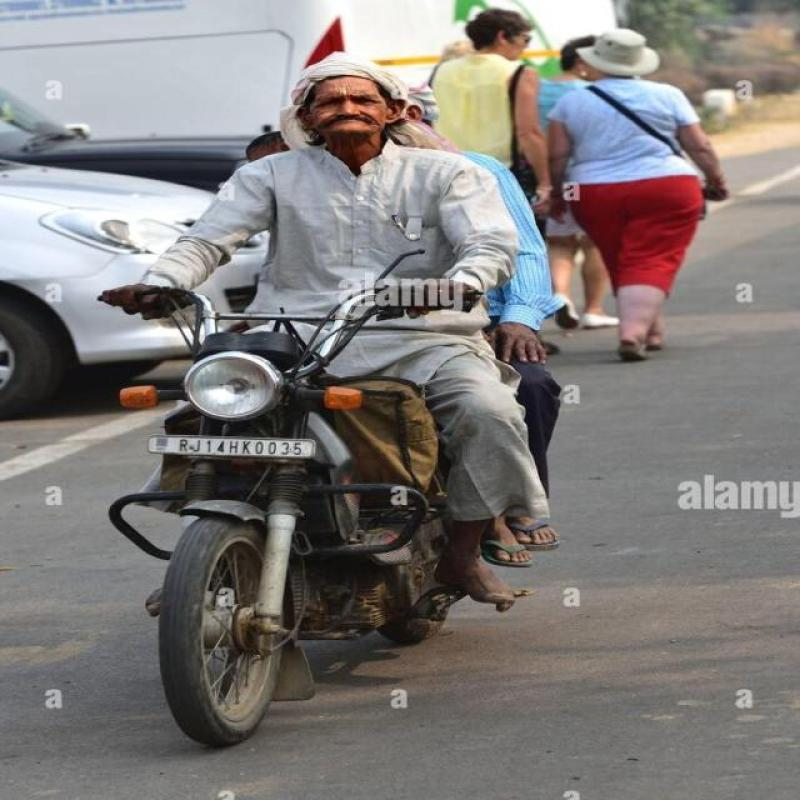nohelmet: (264, 52, 424, 148)
